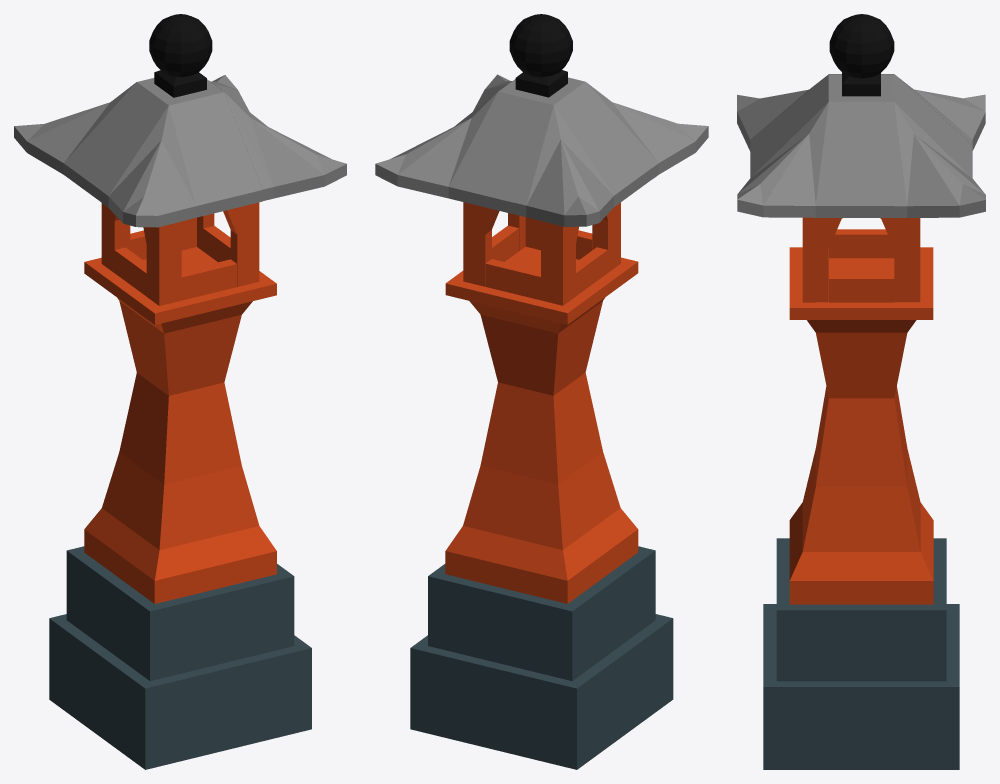
The picture shows the model from 3 angles, left to right: view 1: azimuth 30°, elevation 25°; view 2: azimuth 150°, elevation 25°; view 3: azimuth 270°, elevation 25°; orthographic projection. The views are drawn at different scales.
Visible parts, largest first — view 1: node_MeshObject317240320-PolyPaper21; view 2: node_MeshObject317240320-PolyPaper21; view 3: node_MeshObject317240320-PolyPaper21.
Part boxes in pixels (box(x1,y1,x2,y2)): node_MeshObject317240320-PolyPaper21: box(14, 14, 346, 769); node_MeshObject317240320-PolyPaper21: box(375, 14, 708, 769); node_MeshObject317240320-PolyPaper21: box(737, 14, 985, 769).
Size of the model in its own units: 0.1901 by 0.6001 by 0.19.
